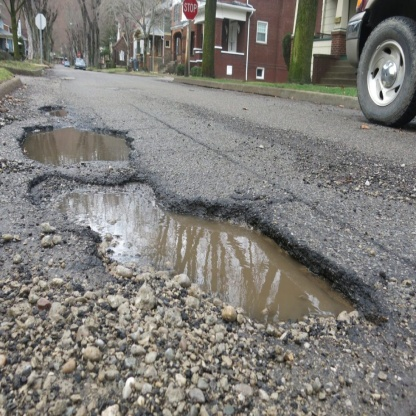pothole: (23, 167, 395, 348), (12, 117, 154, 170)
